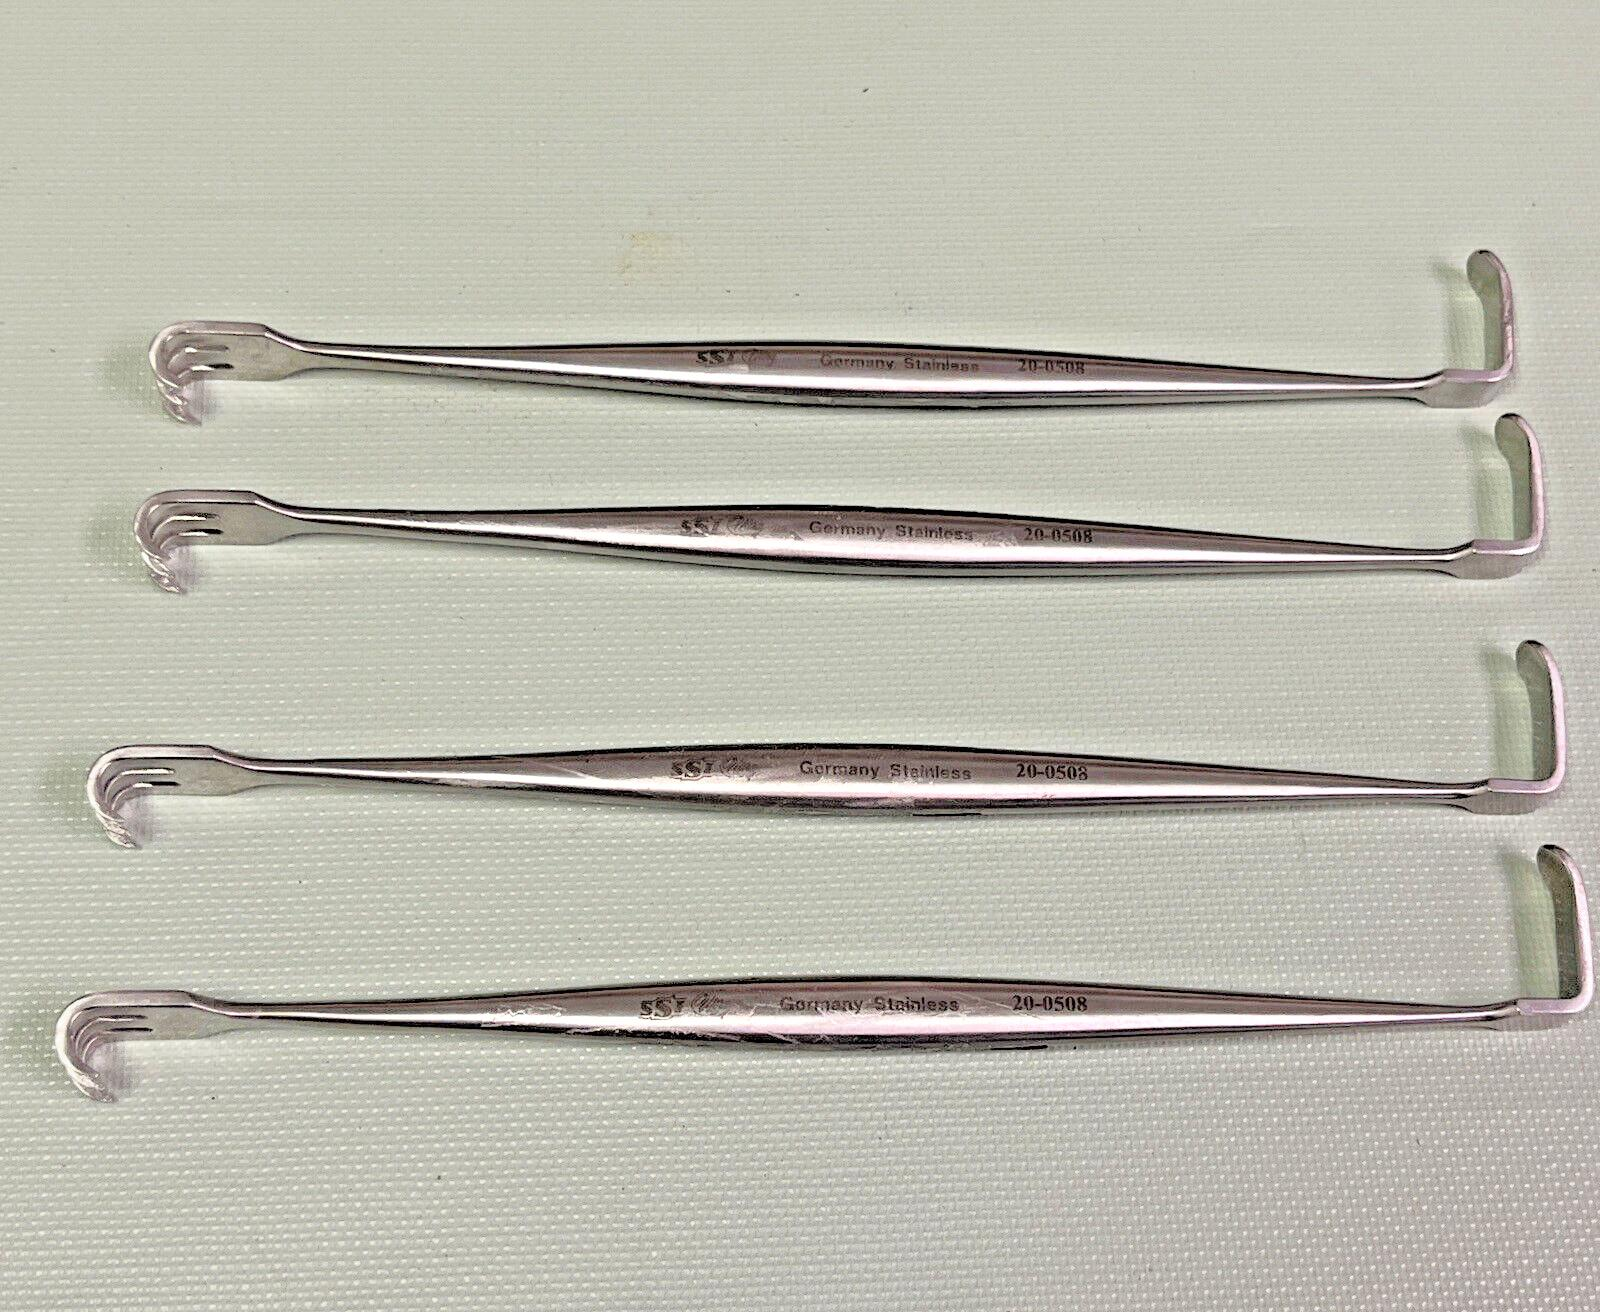Senn Retractor: (50, 833, 1593, 1106), (64, 610, 1572, 849), (106, 221, 1522, 440), (114, 408, 1548, 600)
